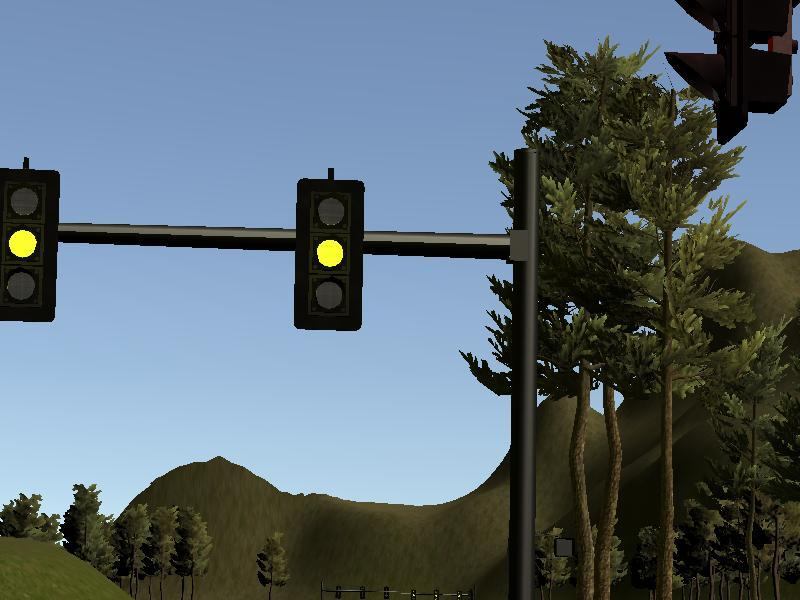Yellow: (294, 177, 365, 332), (1, 168, 60, 323)
